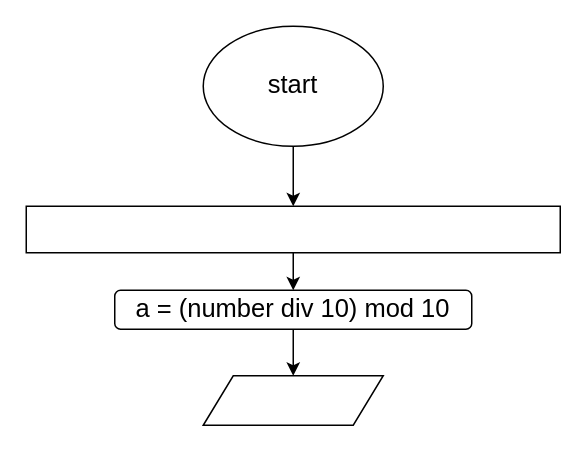
The diagram is 587 pixels wide and 452 high, and some of its shapes have lost their labels. Here are the shapes that lost their labels. From the top down, the box of each, then its label:
(25, 205, 560, 253): number = new Random().Next(100,1000)
(202, 374, 383, 425): print(a)
